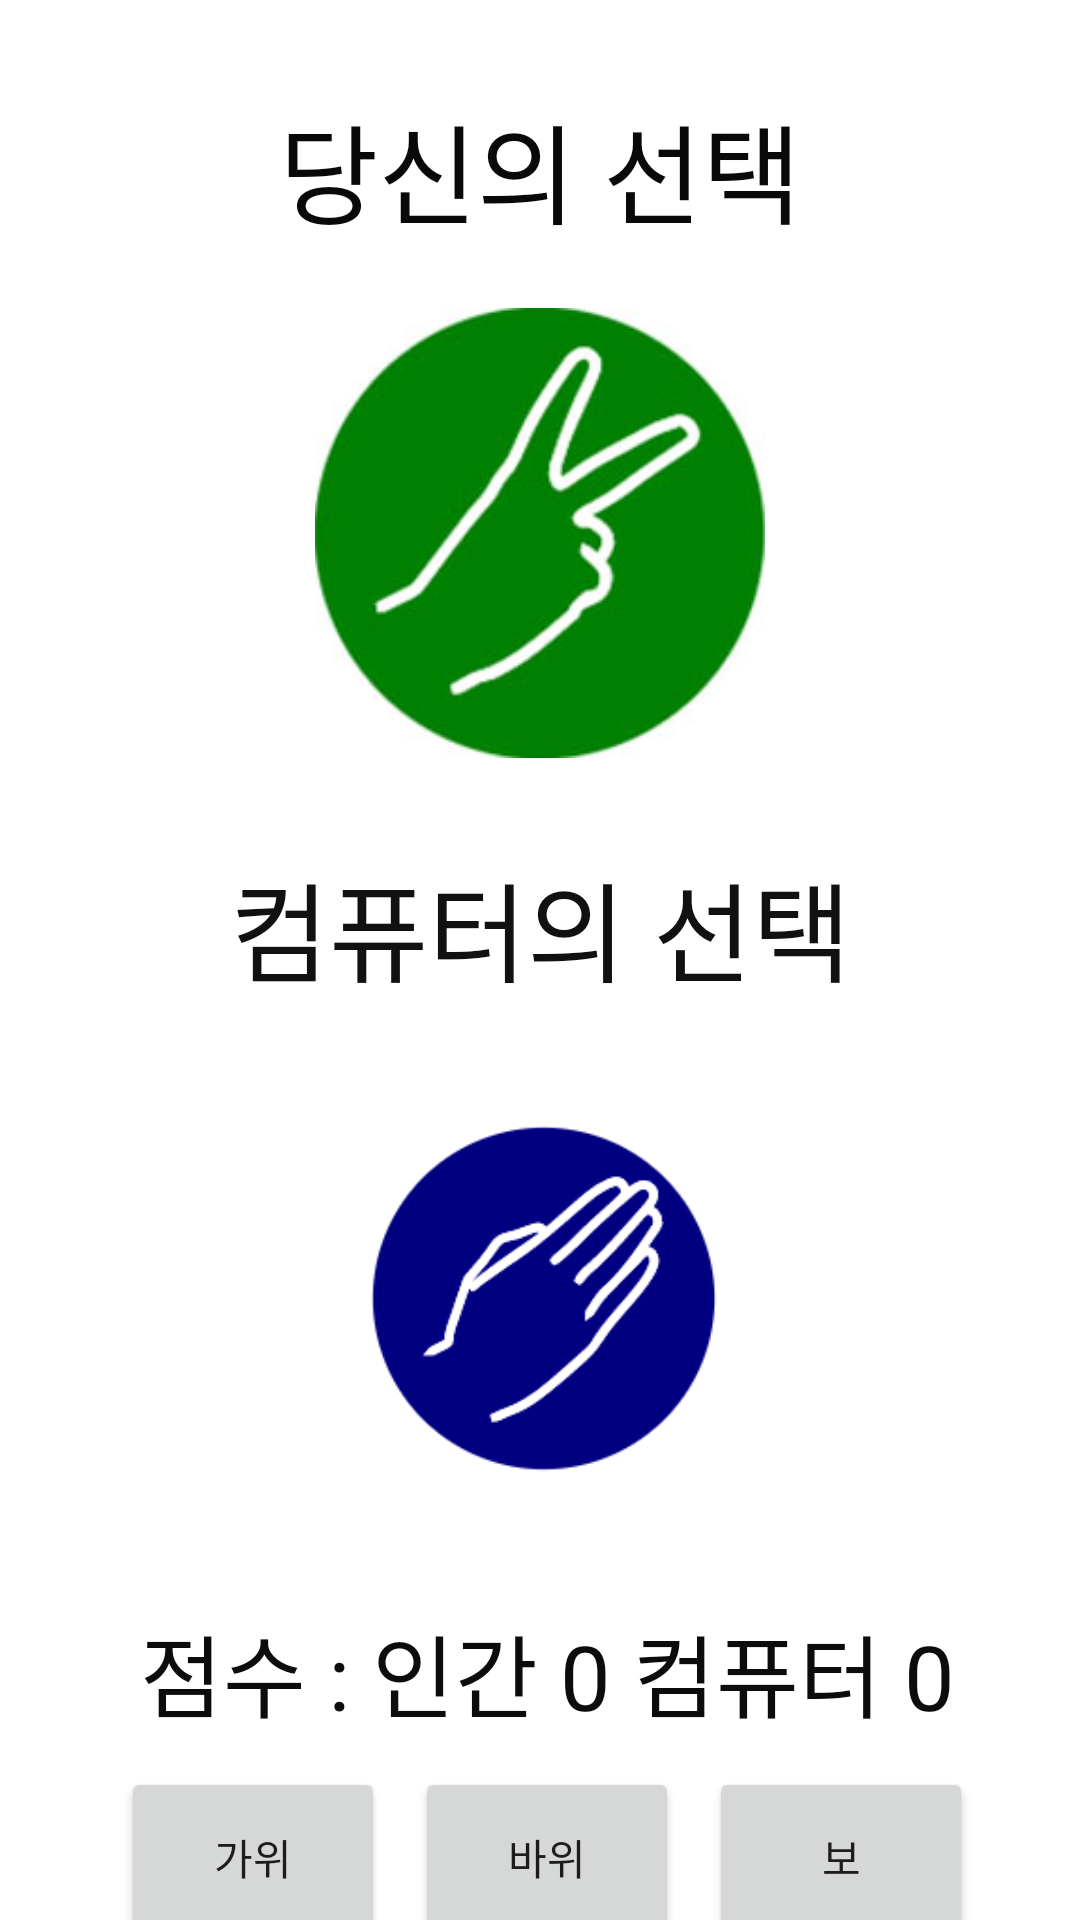

Icon bounding boxes for this 1080×1920 phone screenshot, format (x1,y1,x2,y2):
paper: (372,1126,716,1471)
